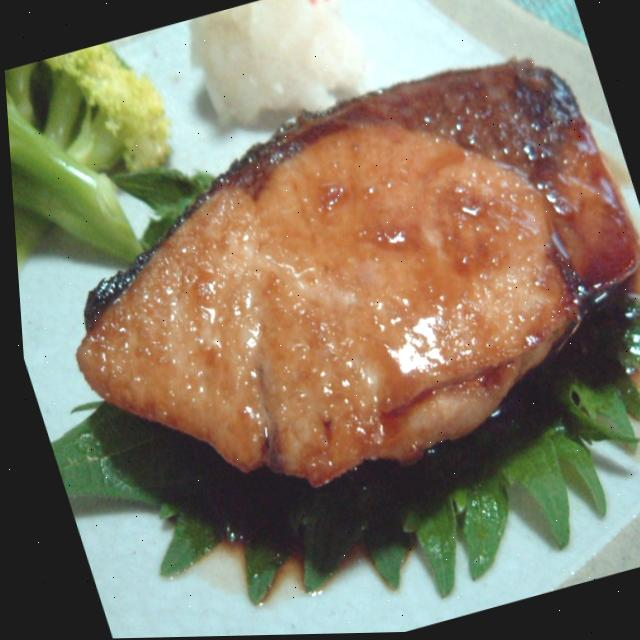熟制海鲜: (2, 36, 640, 548)
